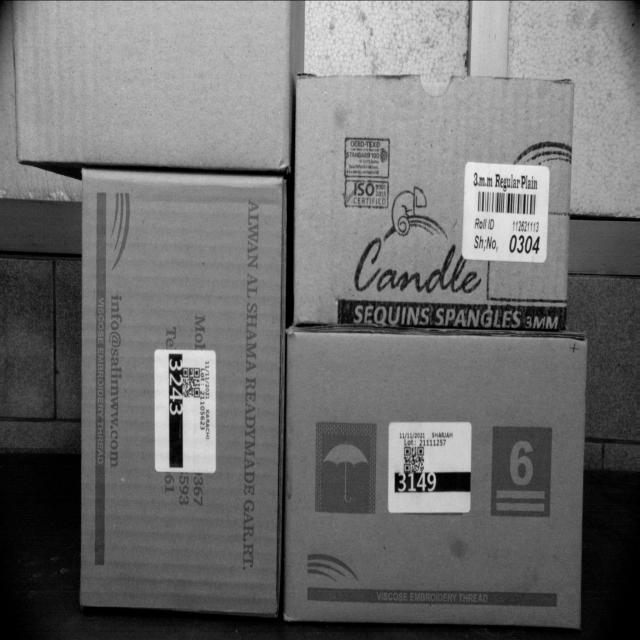cardboxes: (286, 322, 585, 634), (81, 174, 279, 629), (296, 72, 572, 335), (11, 0, 290, 173)
